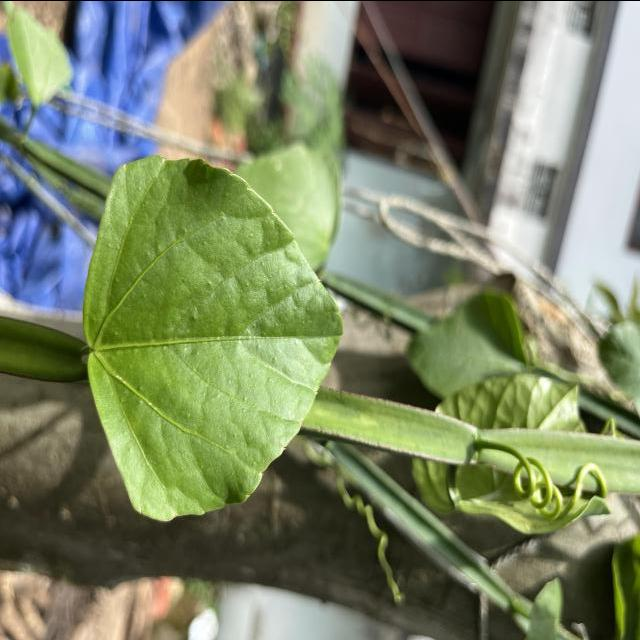Cissus quadrangularis: (80, 149, 350, 528)
